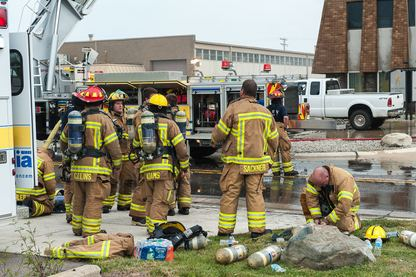truck: (0, 0, 97, 222), (52, 44, 194, 134), (186, 59, 286, 156), (286, 75, 409, 131)
